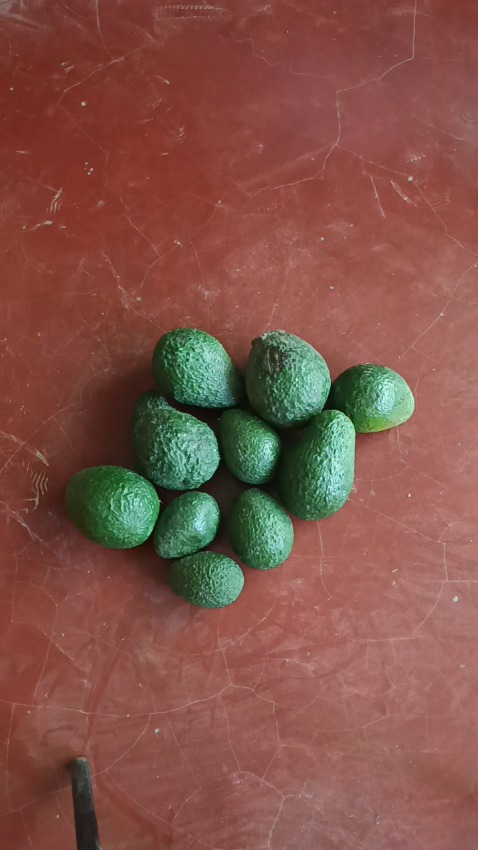Primera: (276, 410, 355, 520), (132, 392, 220, 490), (244, 329, 331, 427), (64, 465, 160, 549), (152, 327, 242, 409)
Segunda: (330, 363, 415, 432), (216, 407, 281, 484)
Tercera: (227, 488, 294, 568), (152, 490, 222, 560), (166, 550, 243, 607)
